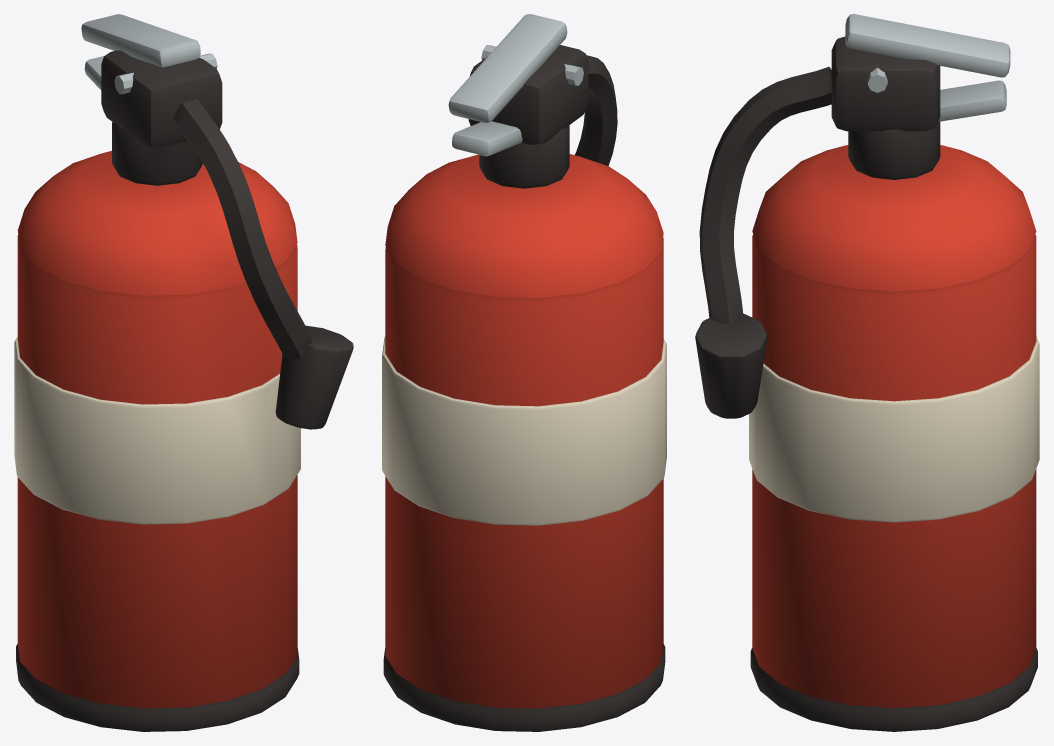
File: extintor.glb
3 renders of one model, left to right at view 1: azimuth 30°, elevation 25°; view 2: azimuth 150°, elevation 25°; view 3: azimuth 270°, elevation 25°, orthographic.
Parts seen in each view (by area): view 1: extintor; view 2: extintor; view 3: extintor.
Part boxes in pixels (bbox=[...]): extintor: bbox=[14, 14, 353, 731]; extintor: bbox=[382, 14, 666, 731]; extintor: bbox=[695, 14, 1039, 731].
Size of the model in its own units: 0.348 by 0.8614 by 0.4122.
